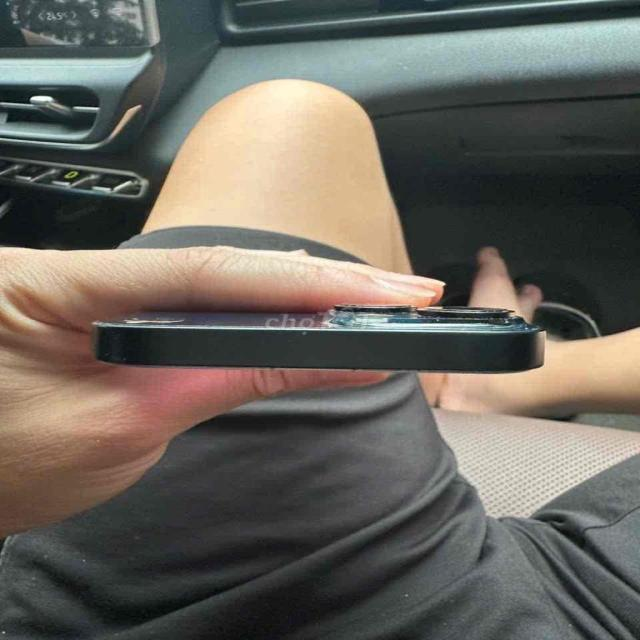scratch: (115, 310, 191, 328), (92, 347, 134, 369), (288, 324, 314, 337)
